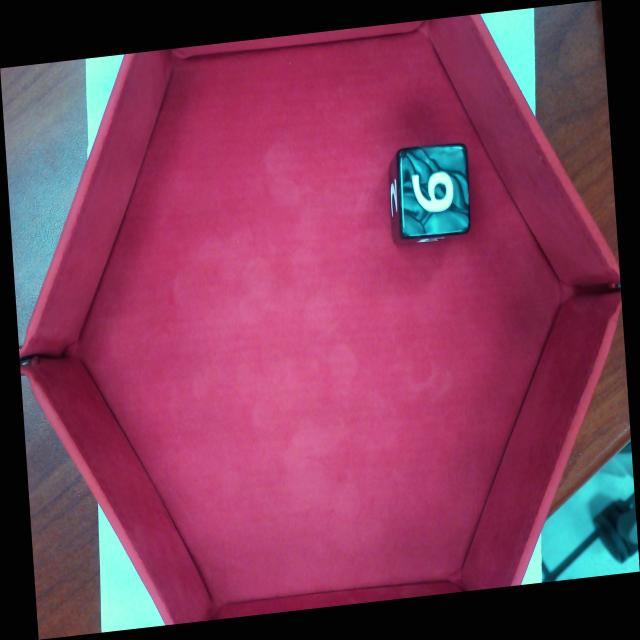dice: (398, 142, 472, 239)
